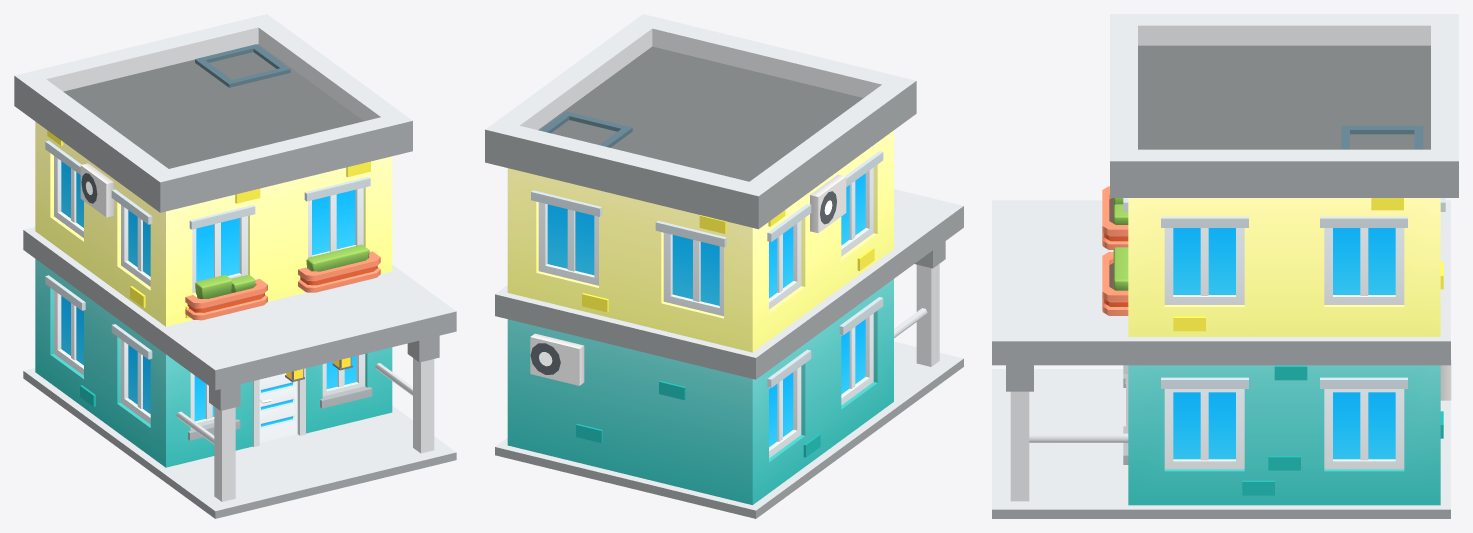
Rendered from Building_Living_04.glb.
3 renders of one model, left to right at view 1: azimuth 30°, elevation 25°; view 2: azimuth 150°, elevation 25°; view 3: azimuth 270°, elevation 25°, orthographic. The views are drawn at different scales.
Parts seen in each view (by area): view 1: Building_Living_04; view 2: Building_Living_04; view 3: Building_Living_04.
Part boxes in pixels (x1,y1,x2,y2): Building_Living_04: [14, 14, 456, 518]; Building_Living_04: [485, 14, 963, 518]; Building_Living_04: [992, 14, 1458, 518].
Size of the model in its own units: 6.86 by 7.83 by 9.18.
Materials: 1 (1 with a texture image).
